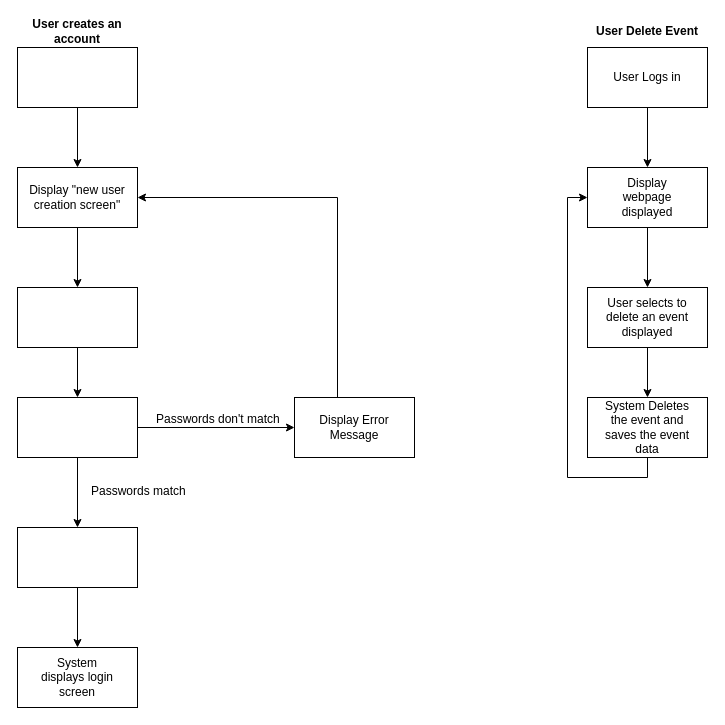
The diagram is 725 pixels wide and 725 high, and some of its shapes have lost their labels. Each missing label, with the box of its shape:
System creates user and saves to the users file: (16, 526, 138, 588)
User clicks submit button: (16, 396, 138, 458)
User Enters their username, and their password twice.: (16, 286, 138, 348)
User pushes sign up button: (16, 46, 138, 108)
